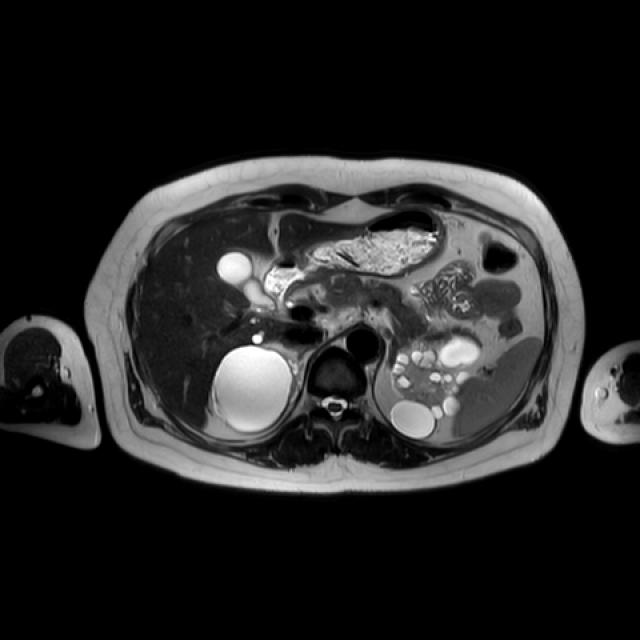sag: (207, 344, 302, 435)
sol: (390, 335, 483, 441)
